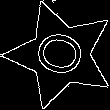O_E: (28, 27, 93, 83)
